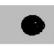correct: (16, 14, 47, 36)
